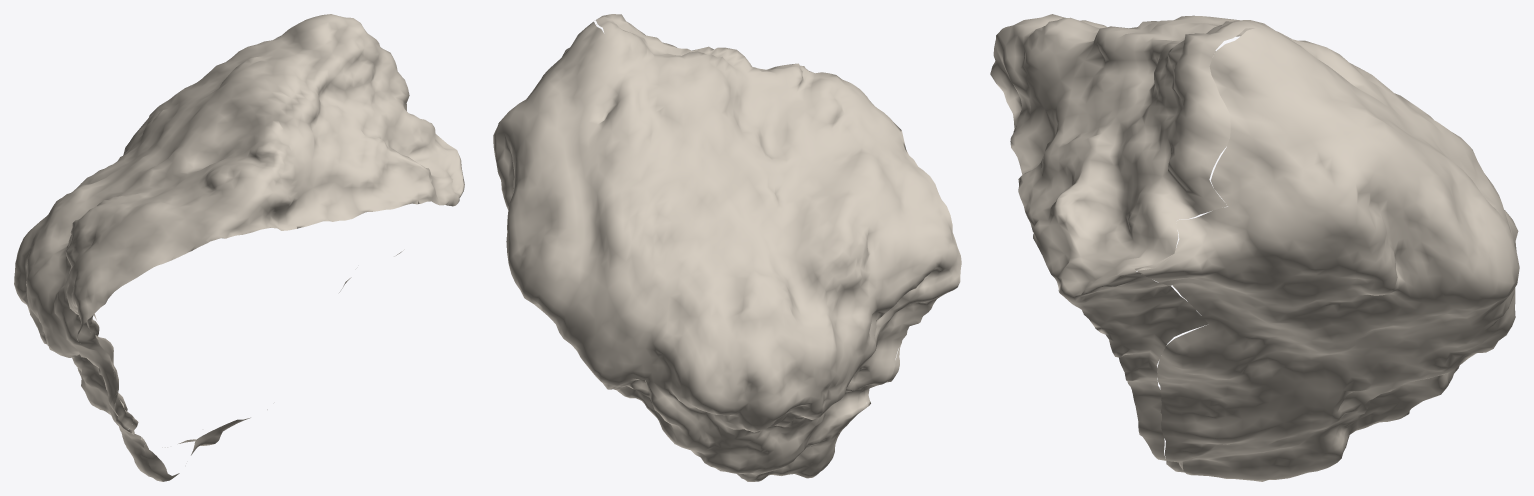
Rendered from gray-big-rock_cand05.glb.
The picture shows the model from 3 angles, left to right: view 1: azimuth 30°, elevation 25°; view 2: azimuth 150°, elevation 25°; view 3: azimuth 270°, elevation 25°; orthographic projection. The views are drawn at different scales.
Parts seen in each view (by area): view 1: world; view 2: world; view 3: world.
Boxes of the visible parts, box(x1,y1,x2,y2) form: world: box(14, 14, 464, 481); world: box(493, 14, 961, 481); world: box(990, 14, 1519, 481).
Size of the model in its own units: 1.74 by 1.73 by 1.44.
